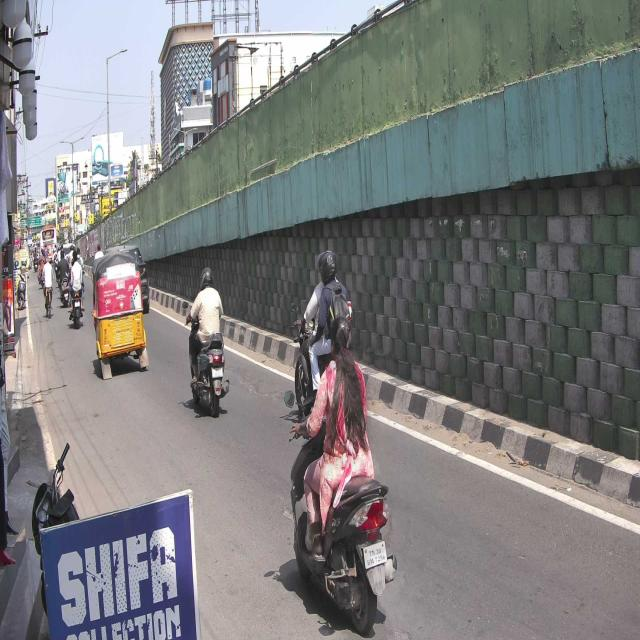single_rider: (282, 313, 399, 635), (182, 265, 230, 419)
